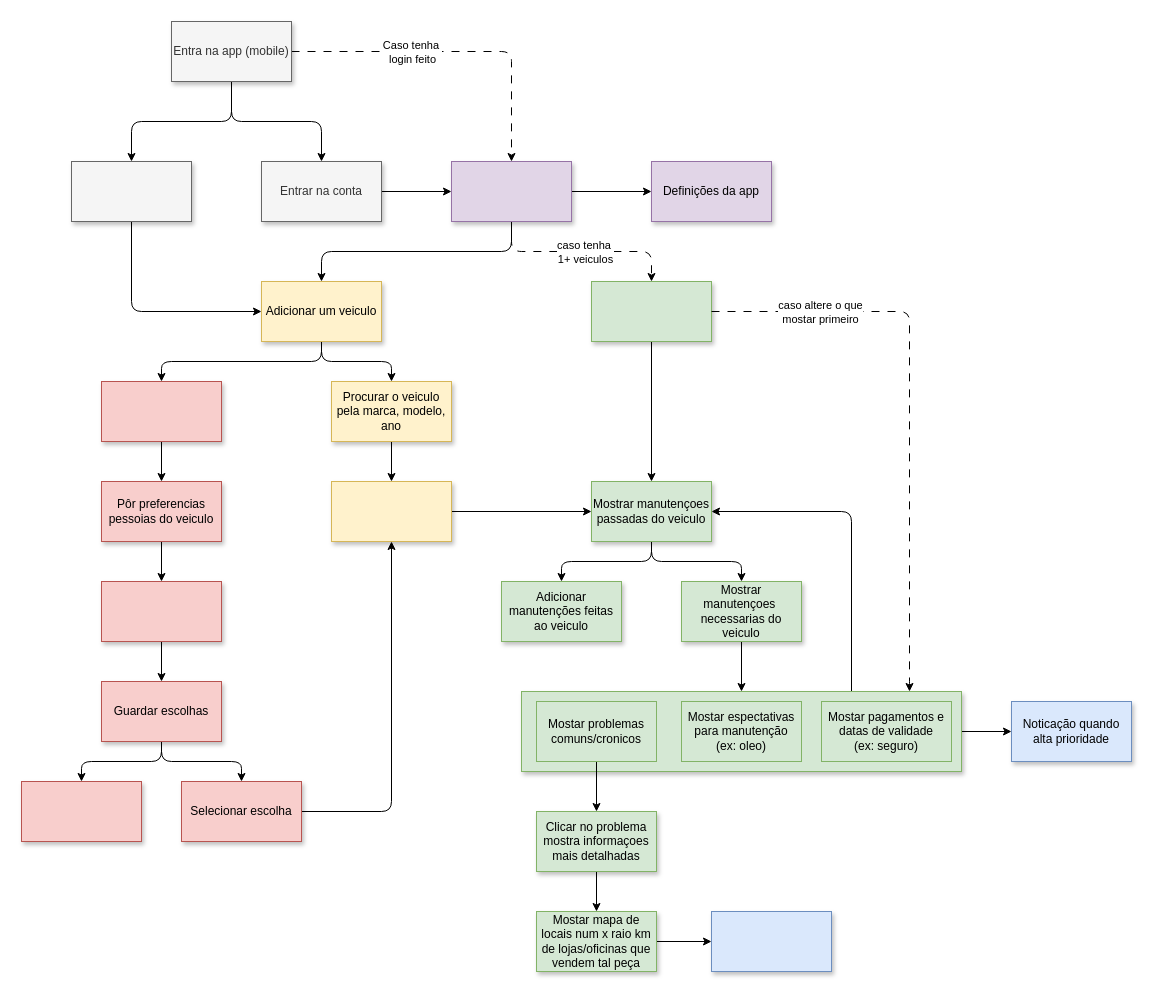
Some shapes in this 1155 by 996 pixel diagram are drawn without their labels. Here are the shapes that lost their labels. From the top down, the centre of each, then its label:
point 132,192: Criar uma conta
point 512,192: Mostrar garagem pessoal com perfis dos veiculos
point 652,312: Selecionar o veiculo
point 162,412: Procurar por um veiculo novo
point 392,512: Adicionar infomaçoes do veiculo (kms, anos, etc)
point 162,612: Lista com veiculos que correspondem às descriçoes
point 82,812: Eliminar escolha
point 772,942: Usar localização do utilizador como ponto inicial
